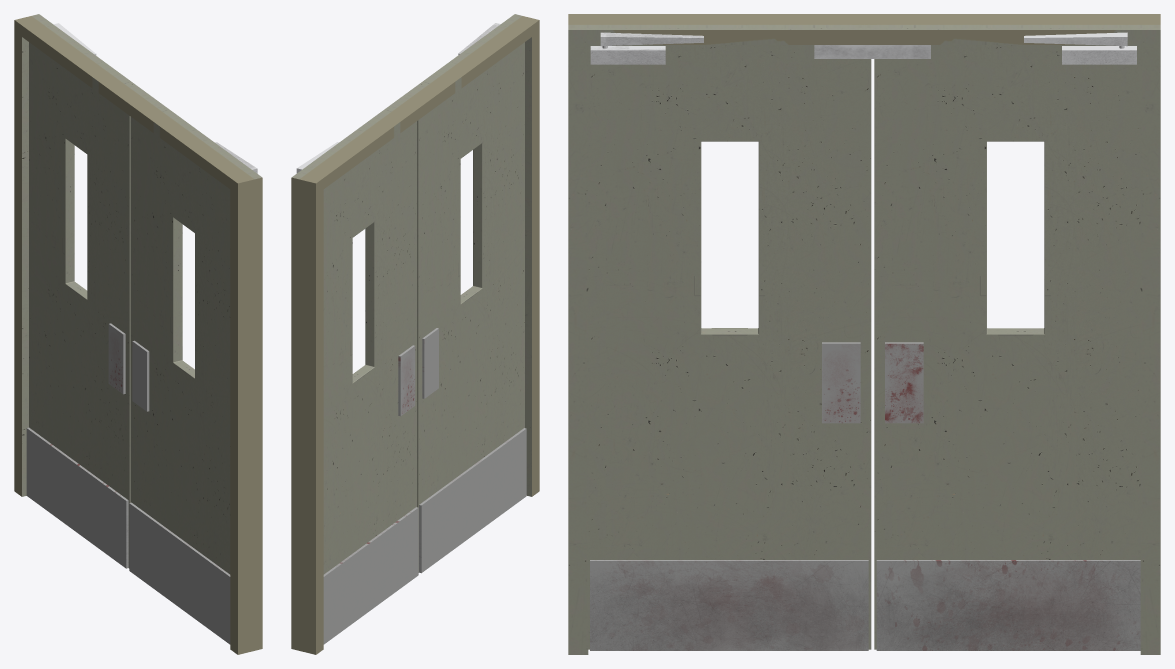
The model's file is hospital_door.glb.
3 views of the same model, side by side, from view 1: azimuth 30°, elevation 25°; view 2: azimuth 150°, elevation 25°; view 3: azimuth 270°, elevation 25° (orthographic). The views are drawn at different scales.
Visible parts, largest first — view 1: doors, door_Frame, DoorHandle_MetalParts; view 2: doors, door_Frame, DoorHandle_MetalParts; view 3: doors, DoorHandle_MetalParts, door_Frame, Metal_parts.
Boxes of the visible parts, left/top/right/bottom form: doors: left=29, top=42, right=230, bottom=574; door_Frame: left=14, top=14, right=262, bottom=654; DoorHandle_MetalParts: left=26, top=323, right=230, bottom=644; doors: left=323, top=42, right=524, bottom=574; door_Frame: left=291, top=14, right=539, bottom=654; DoorHandle_MetalParts: left=323, top=328, right=526, bottom=644; doors: left=588, top=45, right=1140, bottom=649; DoorHandle_MetalParts: left=590, top=342, right=1140, bottom=650; door_Frame: left=568, top=14, right=1160, bottom=654; Metal_parts: left=590, top=32, right=1136, bottom=64.
Size of the model in its own units: 0.1685 by 2.39 by 2.05.
4 materials, 4 textured.
